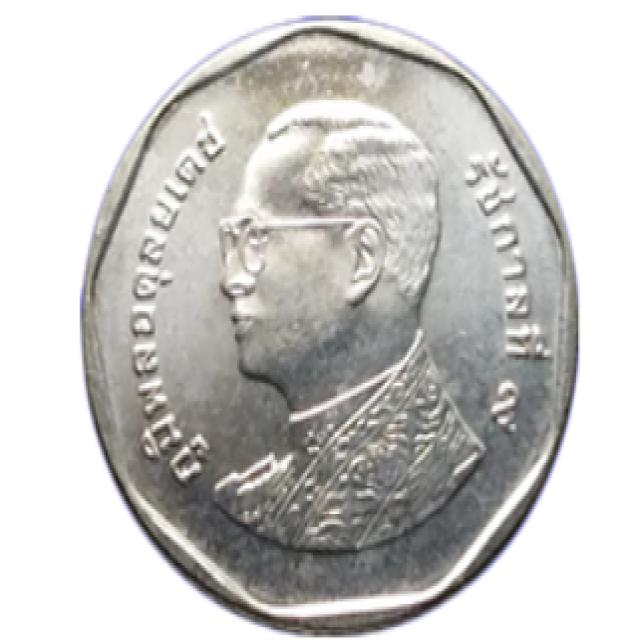5 Bath: (34, 1, 601, 638)
